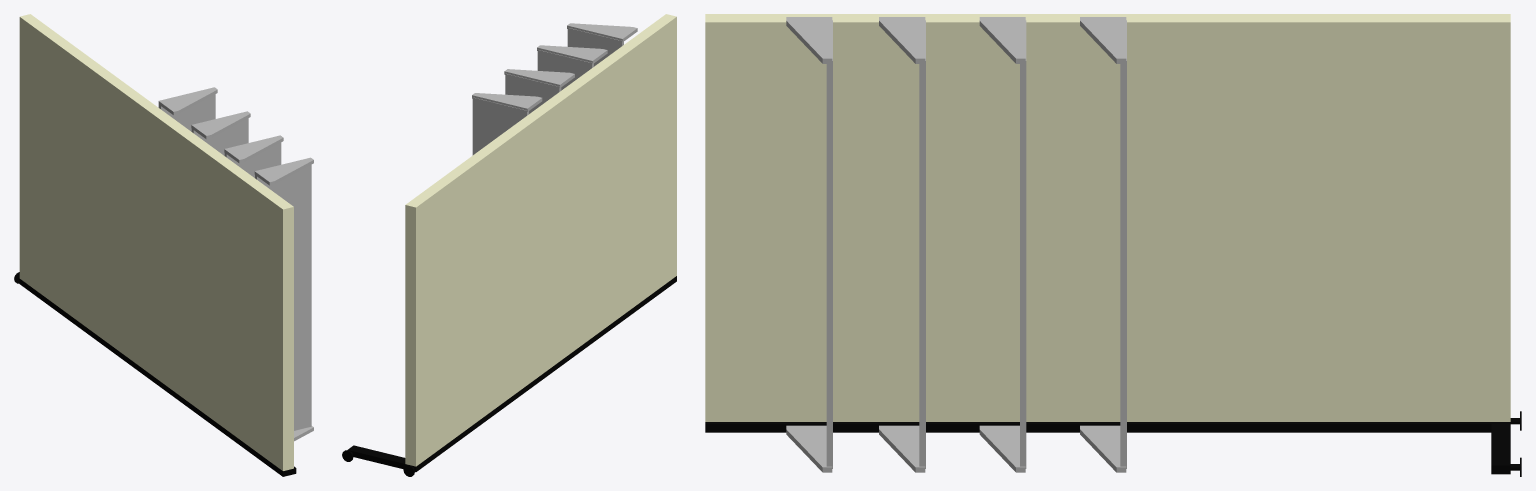
File: nil_link_mesh.dae
3 views of the same model, side by side, from view 1: azimuth 30°, elevation 25°; view 2: azimuth 150°, elevation 25°; view 3: azimuth 270°, elevation 25° (orthographic). The views are drawn at different scales.
Parts seen in each view (by area): view 1: nil_link (×6); view 2: nil_link (×7); view 3: nil_link (×7).
Part boxes in pixels (box(x1,y1,x2,y2)): nil_link (×6): box(19, 14, 313, 476); nil_link (×7): box(347, 14, 676, 472); nil_link (×7): box(705, 14, 1510, 474).
Size of the model in its own units: 0.4 by 1.44 by 2.54.
